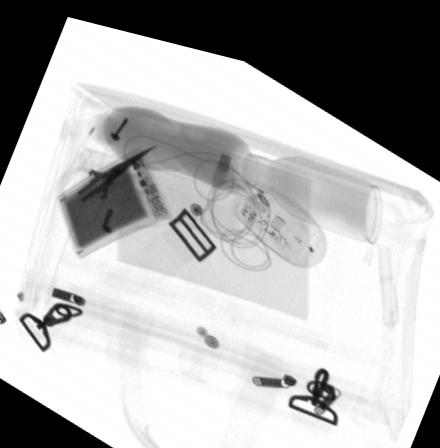Powerbank: (54, 140, 177, 256)
Scissors: (56, 134, 164, 223)
